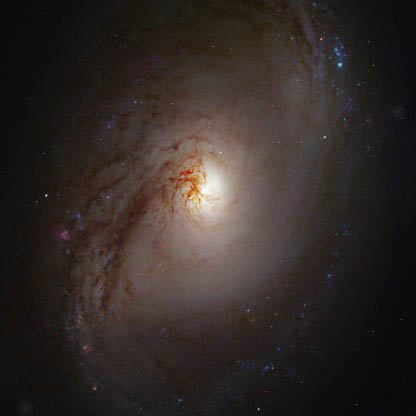Messier 96: (26, 5, 366, 416)
